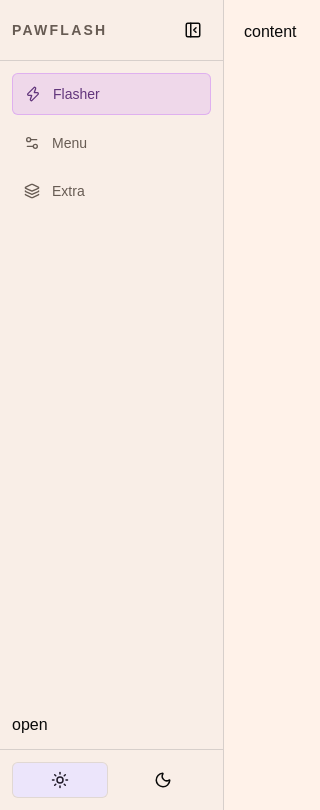
it: AppLayout › passes sidebar open state to sidebar actions
This screenshot has width=320, height=810.
Check: the button with aria-label "action" reads "open", box [12,713,48,737]
Click the button named "Collapse sidebar": x=193, y=30 [175,12,211,48]
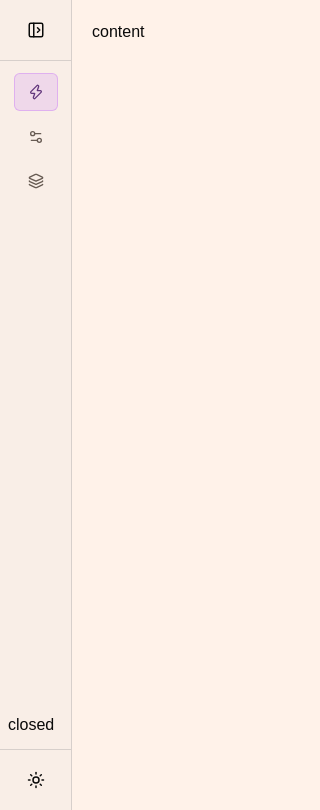
Check: the button with aria-label "action" reads "closed", box [8,713,54,737]
